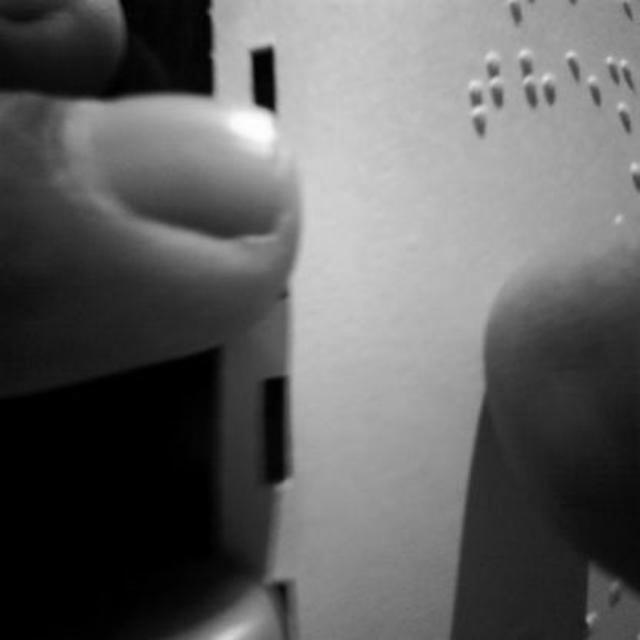braiile: (514, 45, 562, 141), (568, 42, 608, 142), (466, 47, 506, 143)
